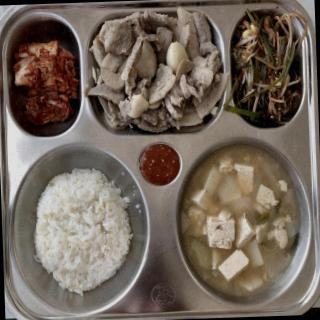Nasi: (33, 166, 136, 293)
